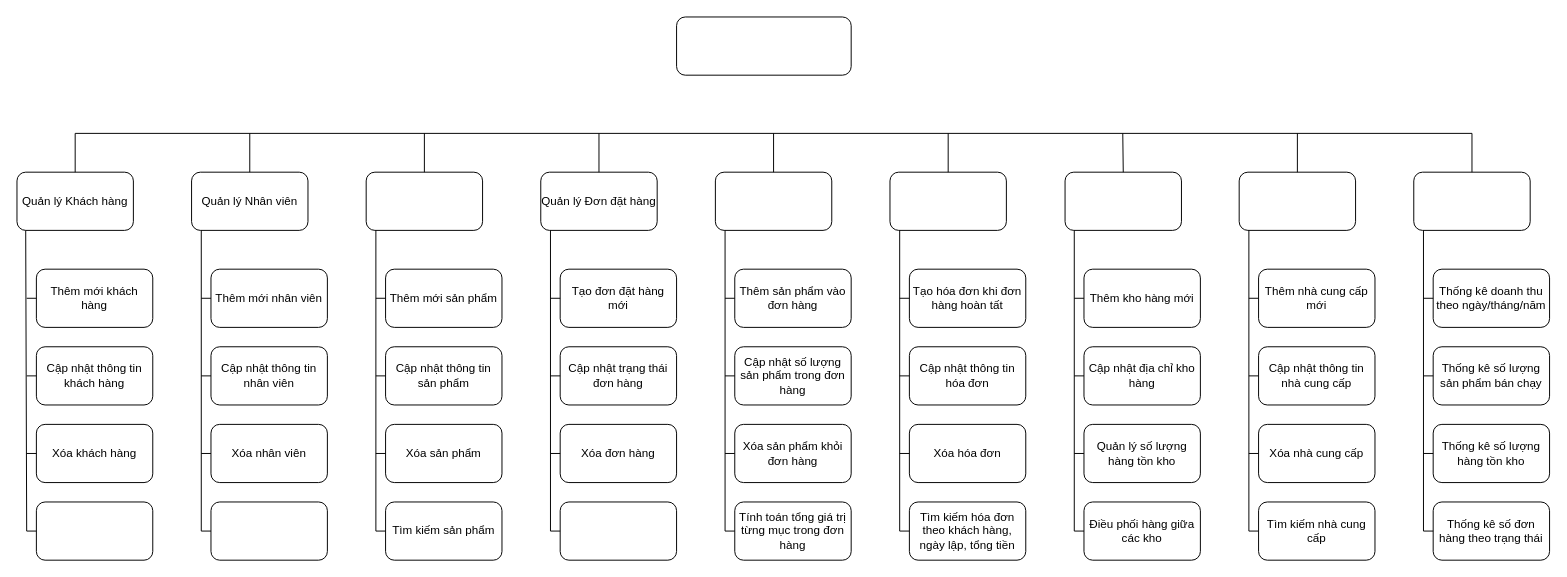
This 1567x577 diagram has some shape labels left out. The shapes that lost their labels are listed below. From the top down, each one's centre as x and y in pixels, then its label:
(x=763, y=45): QUẢN LÝ BÁN HÀNG
(x=424, y=200): Quản lý Sản phẩm
(x=773, y=200): Quản lý Chi tiết Đơn hàng
(x=947, y=200): Quản lý Hóa đơn
(x=1122, y=200): Quản lý Kho hàng
(x=1297, y=200): Quản lý Nhà cung cấp
(x=1471, y=200): Báo cáo và Thống kê
(x=94, y=530): Tìm kiếm khách hàng
(x=268, y=530): Phân quyền nhân viên
(x=618, y=530): Tính tổng giá trị đơn hàng
